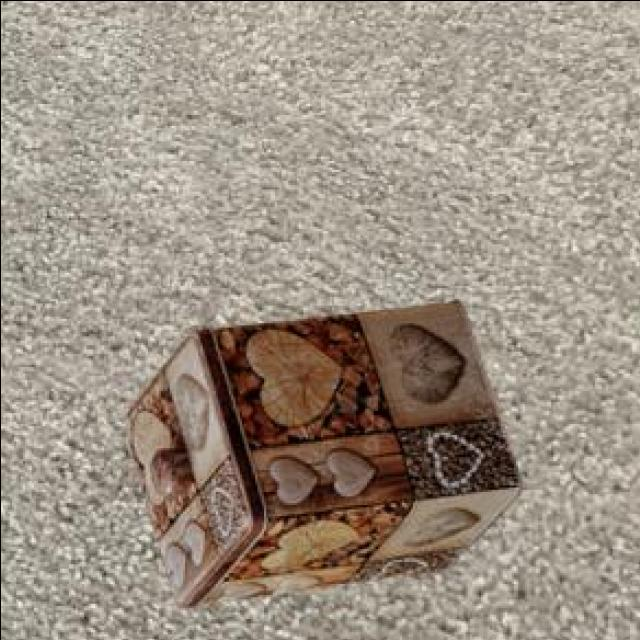logam: (122, 297, 514, 604)
